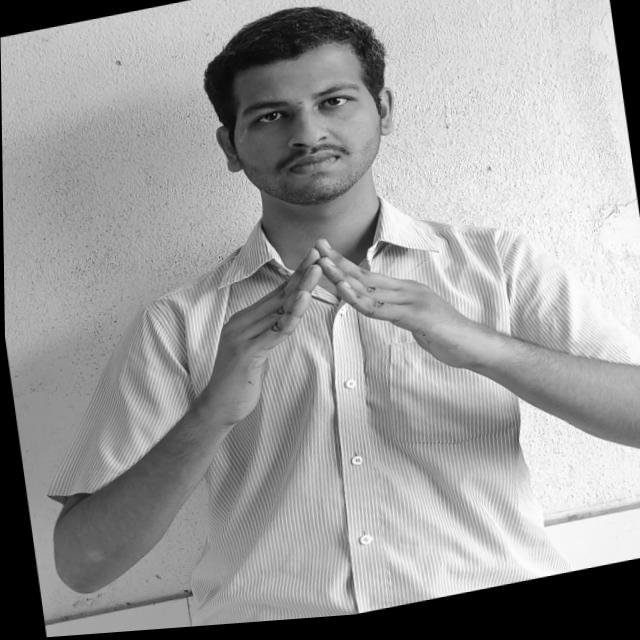Home: (177, 216, 490, 417)
